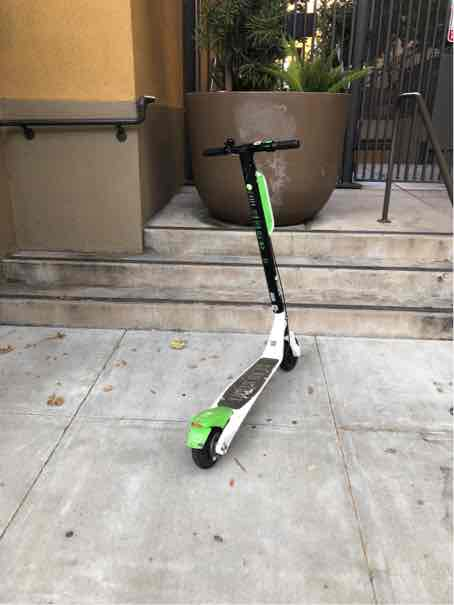scooter: (176, 128, 320, 482)
